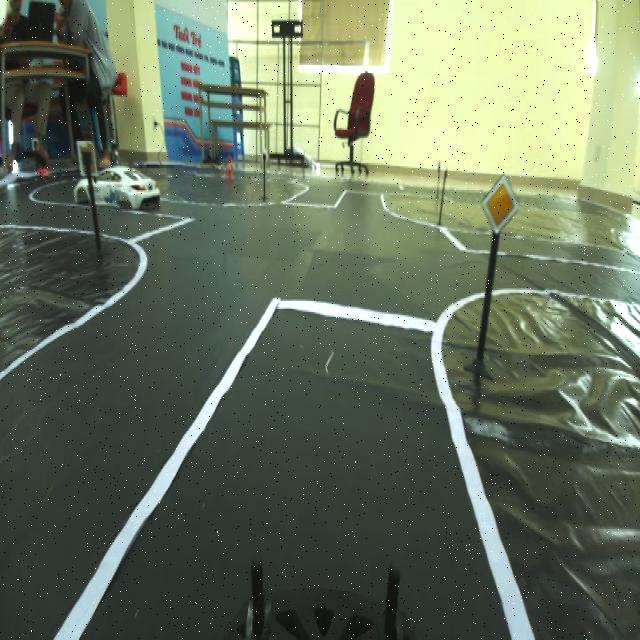priority: (474, 171, 527, 238)
